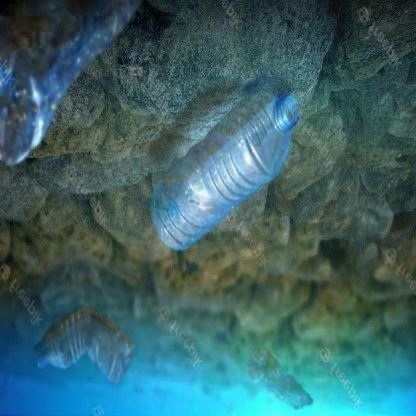pbottle: (0, 1, 158, 173), (148, 83, 300, 254), (29, 304, 137, 387), (243, 339, 324, 416)
